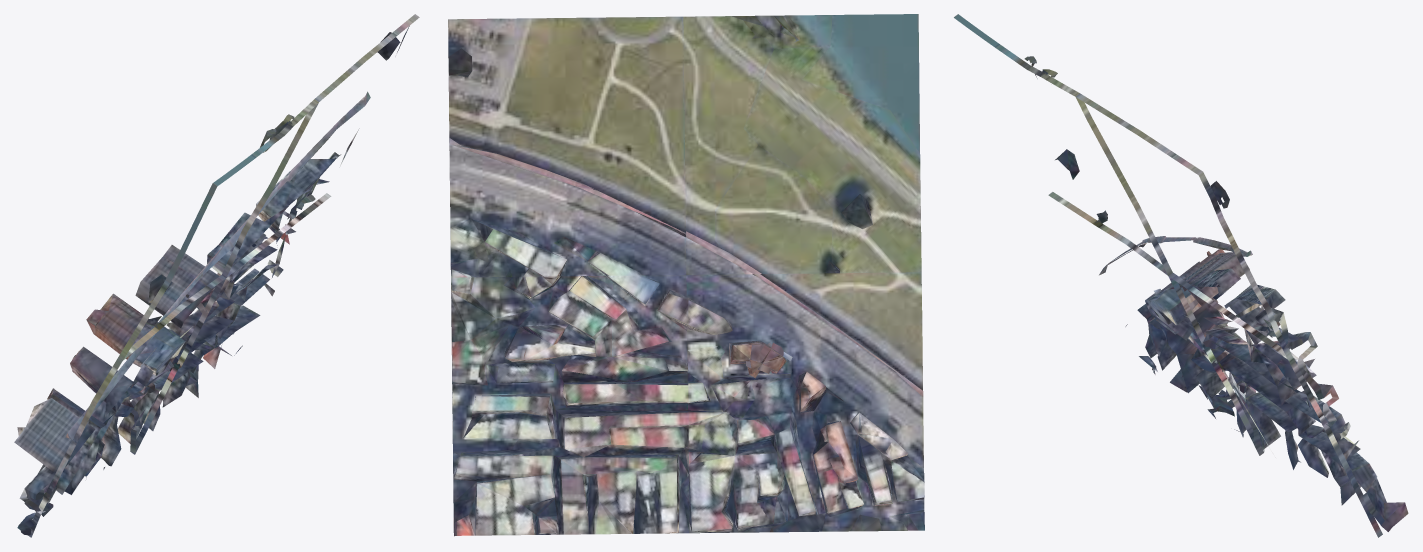
The picture shows the model from 3 angles, left to right: view 1: azimuth 30°, elevation 25°; view 2: azimuth 150°, elevation 25°; view 3: azimuth 270°, elevation 25°; orthographic projection. The views are drawn at different scales.
Bounding box in the file's own units: 308 × 278 × 278.
Materials: 2 (2 with a texture image).
